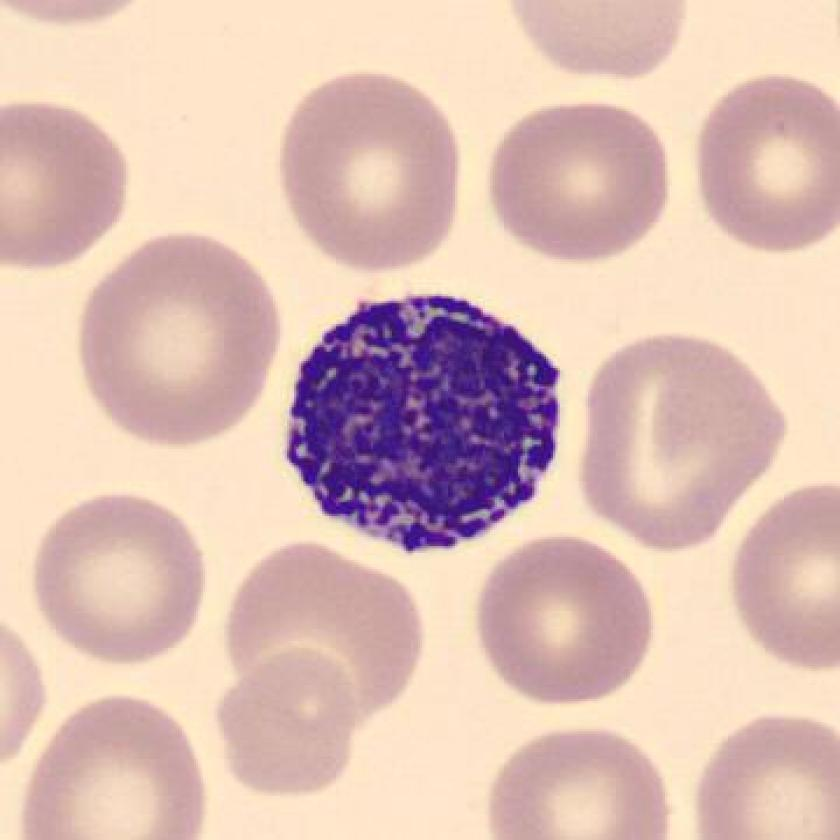basophil: (274, 286, 573, 563)
